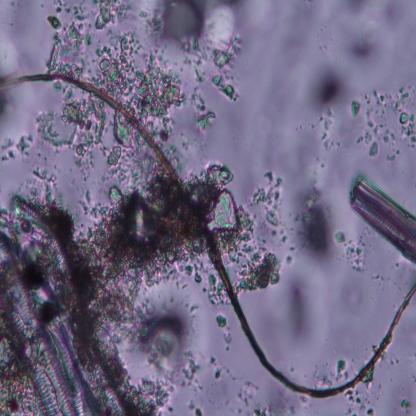Background material: (49, 0, 195, 117), (84, 181, 188, 290), (158, 0, 245, 75), (36, 99, 132, 165), (132, 291, 199, 382), (240, 61, 284, 168), (198, 168, 253, 248), (255, 170, 295, 265), (297, 187, 349, 254), (216, 372, 294, 416), (306, 101, 344, 181), (376, 86, 416, 153), (0, 129, 41, 189), (285, 270, 313, 348), (238, 249, 286, 291), (353, 88, 381, 158), (210, 35, 241, 98), (338, 25, 382, 68), (130, 378, 176, 416), (335, 228, 371, 276), (156, 119, 192, 164), (334, 271, 366, 318), (312, 72, 350, 107), (33, 166, 67, 204), (188, 88, 212, 135), (314, 356, 352, 385), (0, 89, 24, 126), (205, 355, 231, 384), (381, 0, 405, 31), (335, 0, 373, 18), (219, 320, 240, 351), (350, 389, 376, 414), (209, 276, 225, 310), (394, 392, 415, 416), (184, 394, 202, 415), (42, 13, 60, 32), (350, 97, 360, 121)
Diatom: (0, 193, 132, 414), (349, 172, 416, 267)
Natural material: (0, 72, 416, 395)
